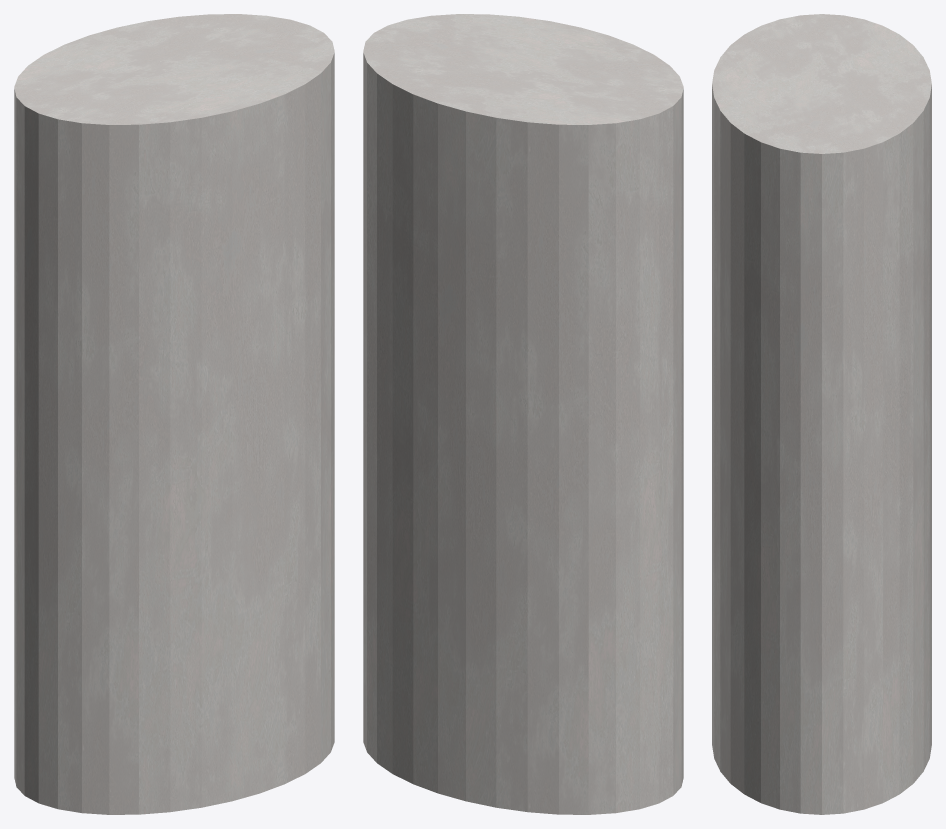
File: Column.fbx
The picture shows the model from 3 angles, left to right: view 1: azimuth 30°, elevation 25°; view 2: azimuth 150°, elevation 25°; view 3: azimuth 270°, elevation 25°; orthographic projection. The views are drawn at different scales.
Visible parts, largest first — view 1: Cylinder; view 2: Cylinder; view 3: Cylinder.
Part boxes in pixels (<box>): Cylinder: <box>14,14,334,814</box>; Cylinder: <box>363,14,683,814</box>; Cylinder: <box>712,14,931,814</box>.
Bounding box in the file's own units: 436 × 961 × 290.
1 material, 1 textured.
